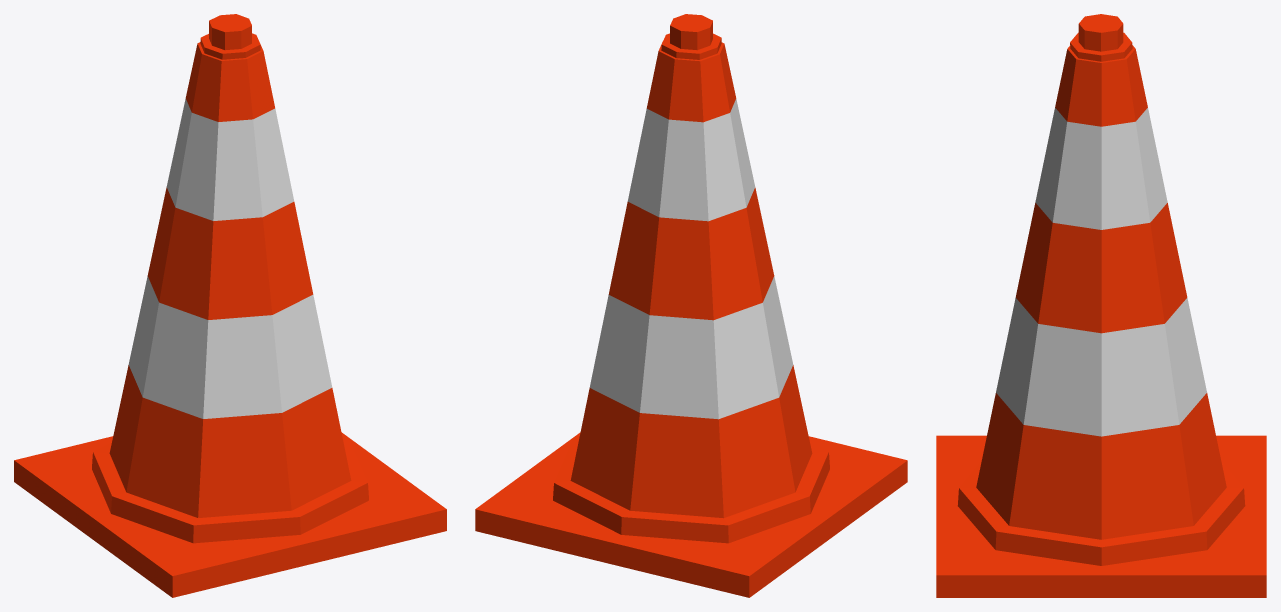
File: Color_Corn.fbx
The picture shows the model from 3 angles, left to right: view 1: azimuth 30°, elevation 25°; view 2: azimuth 150°, elevation 25°; view 3: azimuth 270°, elevation 25°; orthographic projection. The views are drawn at different scales.
Parts seen in each view (by area): view 1: Cube; view 2: Cube; view 3: Cube.
Boxes of the visible parts, x1,y1,x2,y2 form: Cube: [14, 14, 446, 597]; Cube: [475, 14, 907, 597]; Cube: [936, 14, 1266, 597].
Size of the model in its own units: 29.04 by 48.91 by 29.04.
